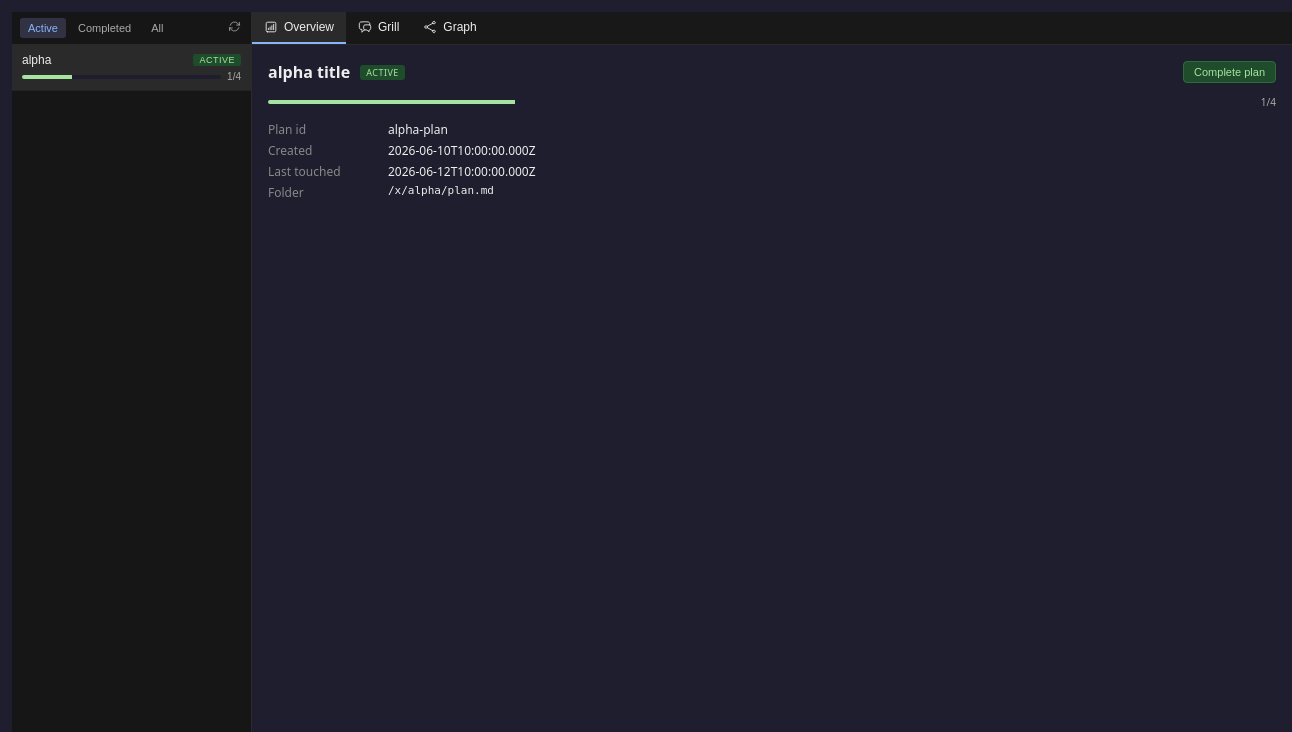
Test case: PlanTile shell › shows a placeholder when the feature has no grill-me.md
Click the button with test id "plan-tab-grill": (379, 28) [346, 12, 411, 44]
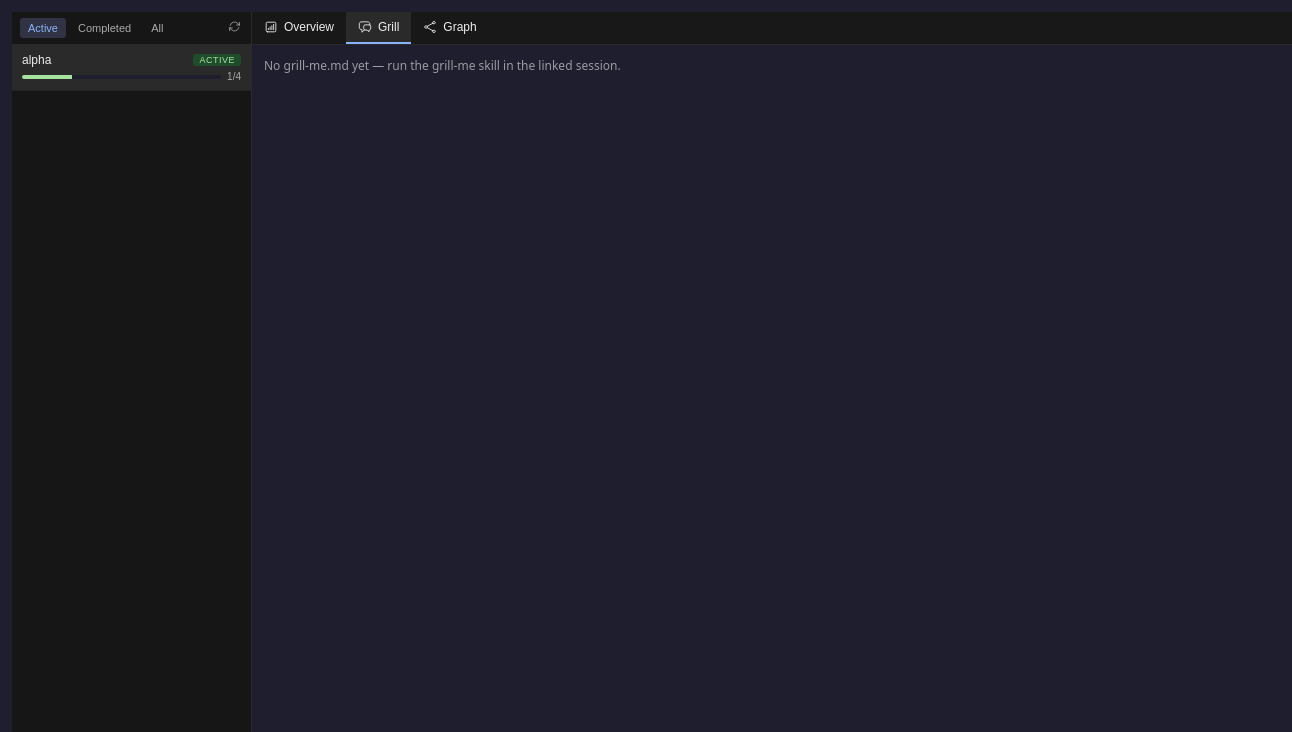
Now the text "No grill-me.md yet" is shown, box [264, 57, 621, 74]
